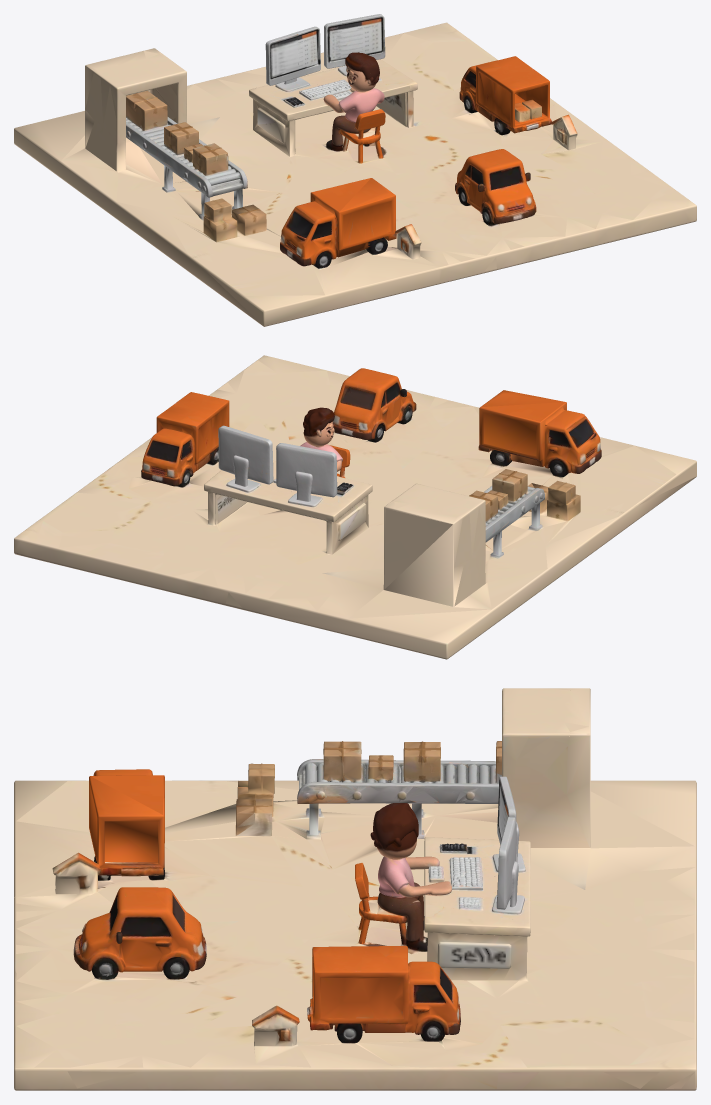
Rendered from amiba-col-75.glb.
The picture shows the model from 3 angles, top to bottom: view 1: azimuth 30°, elevation 25°; view 2: azimuth 150°, elevation 25°; view 3: azimuth 270°, elevation 25°; orthographic projection. The views are drawn at different scales.
Parts seen in each view (by area): view 1: mesh_node; view 2: mesh_node; view 3: mesh_node.
Part boxes in pixels (<box>): mesh_node: <box>14,14,696,326</box>; mesh_node: <box>14,355,696,659</box>; mesh_node: <box>14,688,696,1090</box>.
Bounding box in the file's own units: 1.9 × 0.4744 × 1.9.
1 material, 1 textured.
